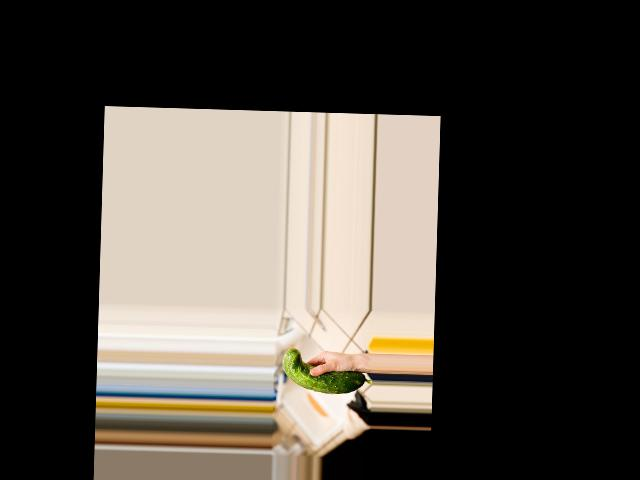cucumber: (281, 348, 372, 395)
